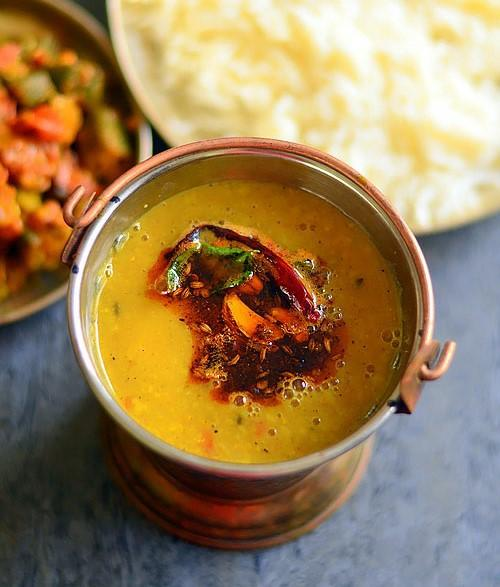Dal: (94, 176, 407, 464)
WhiteRice: (128, 0, 500, 228)
